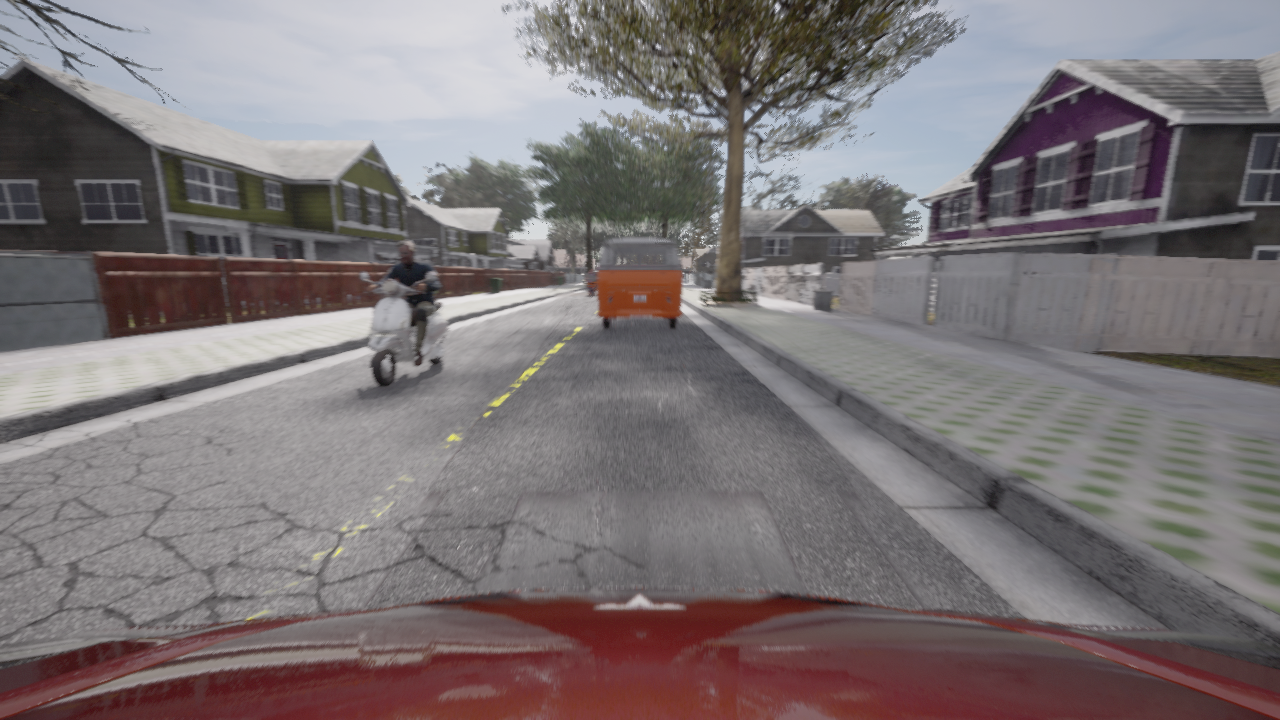cyclist: (0, 588, 1279, 719), (360, 271, 448, 386), (598, 238, 681, 328), (585, 274, 597, 295)
